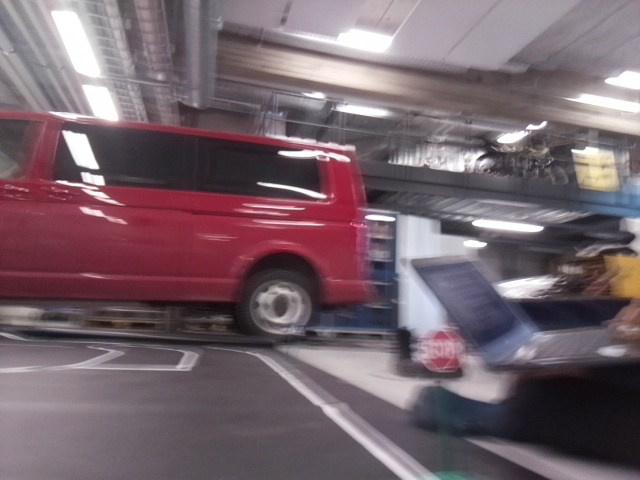Stop: (416, 323, 462, 374)
